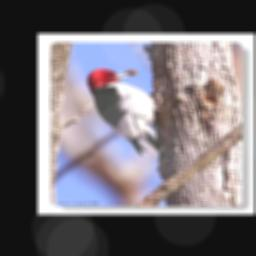Woodpecker: (86, 68, 164, 154)
